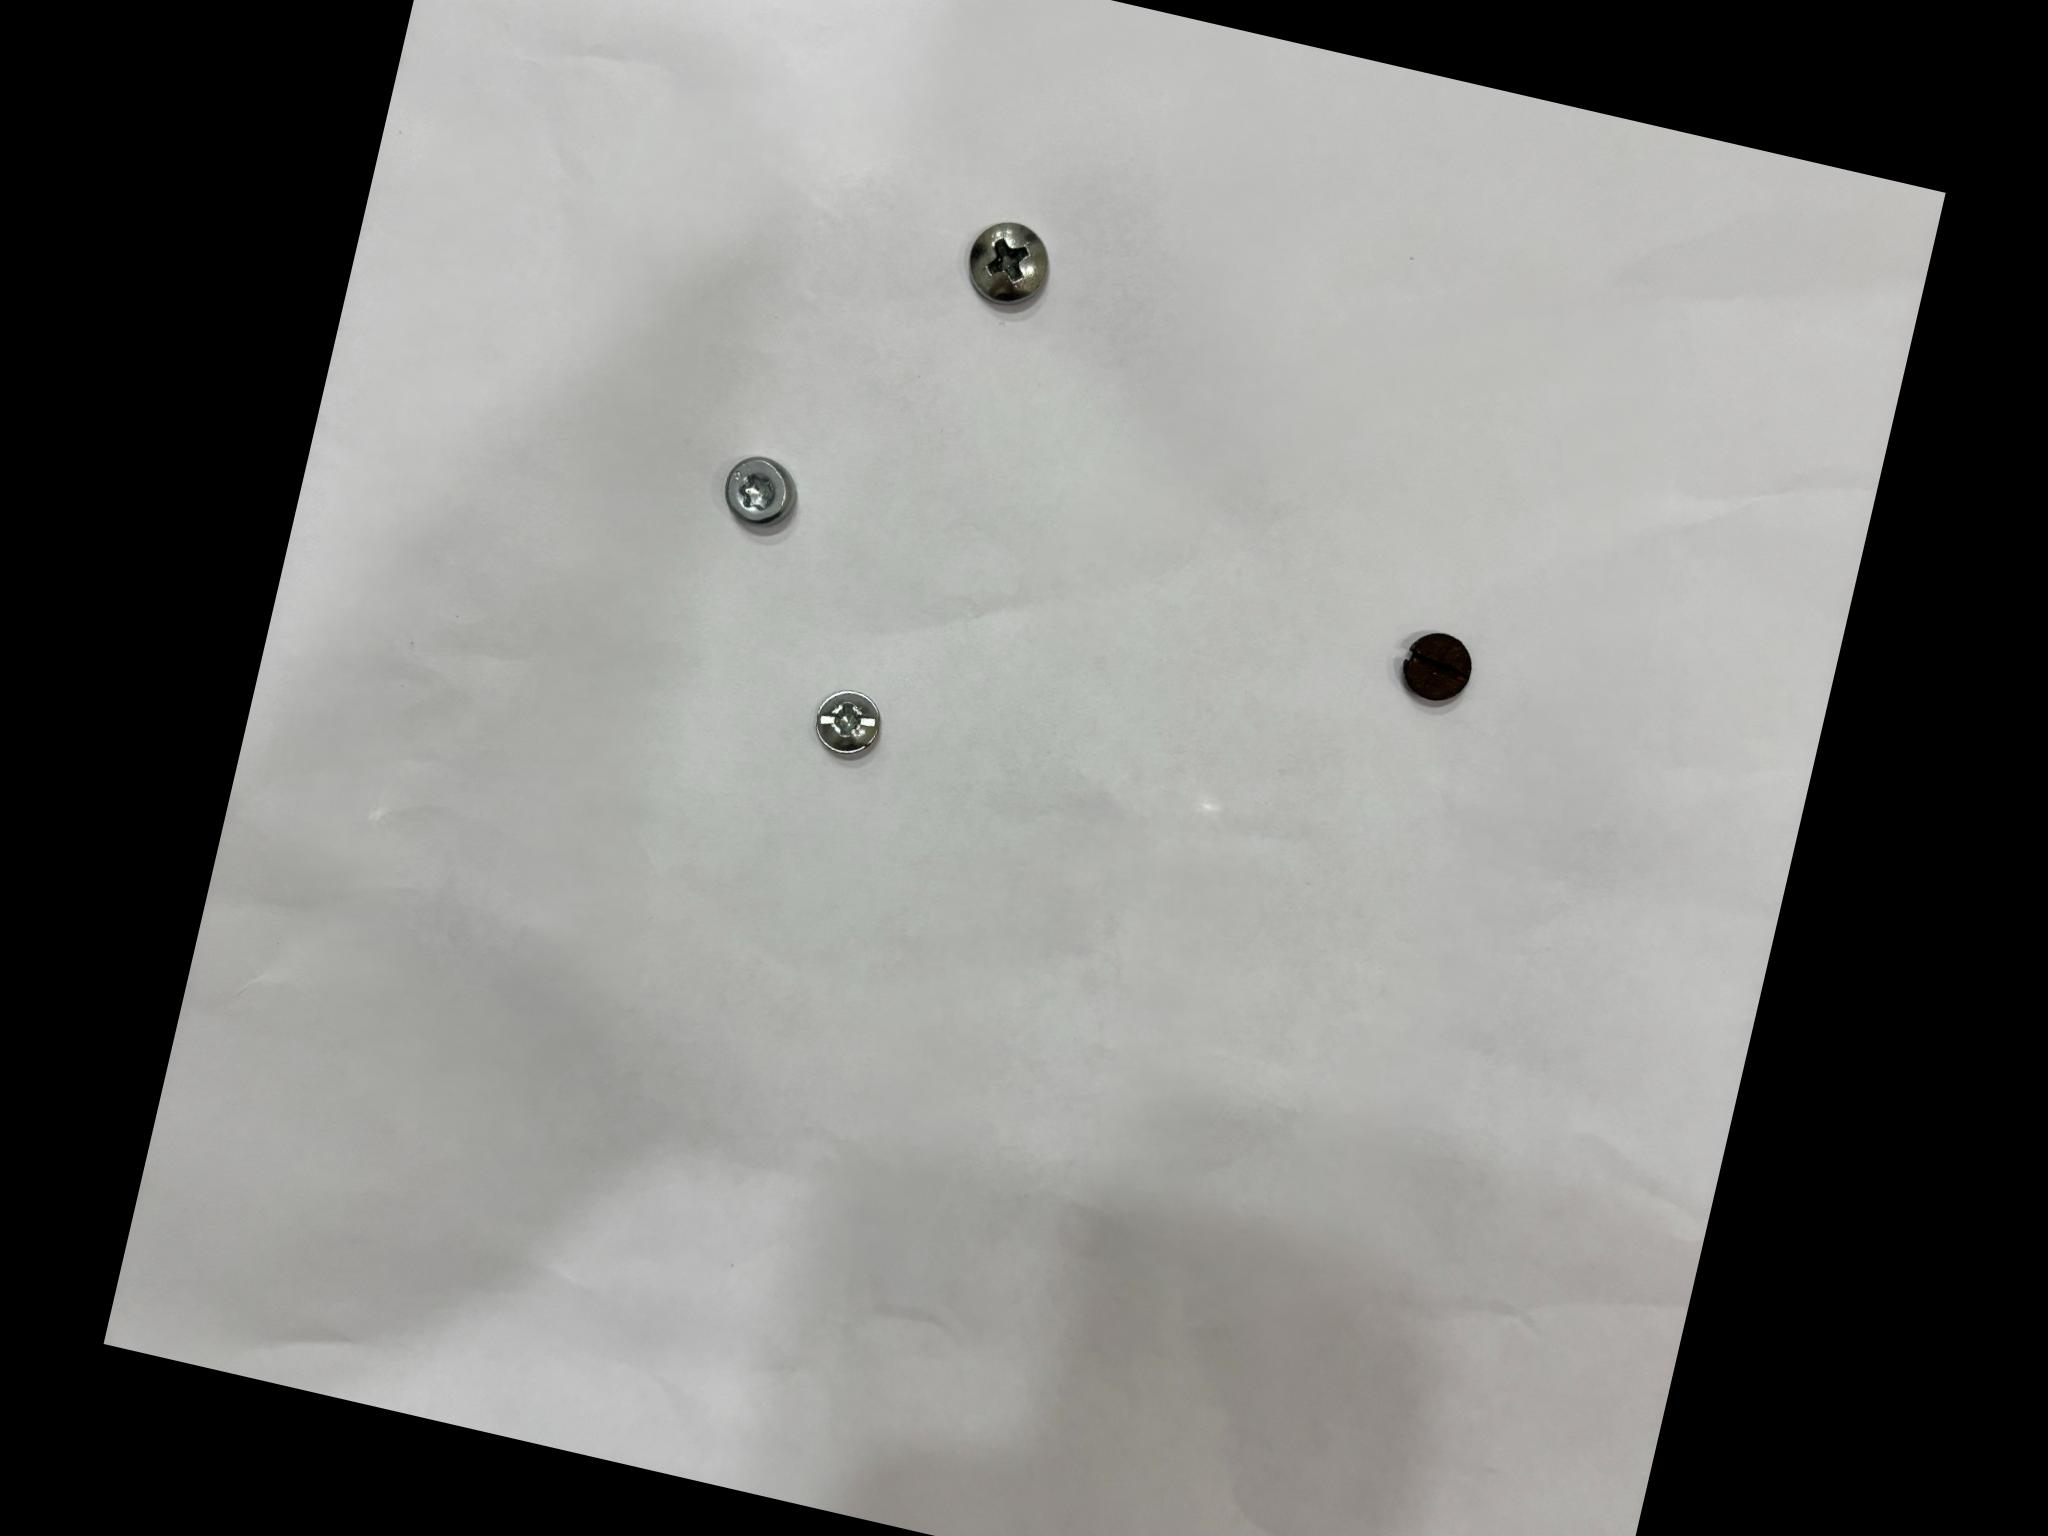PH: (969, 221, 1047, 303)
PZ: (814, 691, 879, 755)
SL: (1401, 631, 1471, 700)
T: (726, 455, 793, 523)
